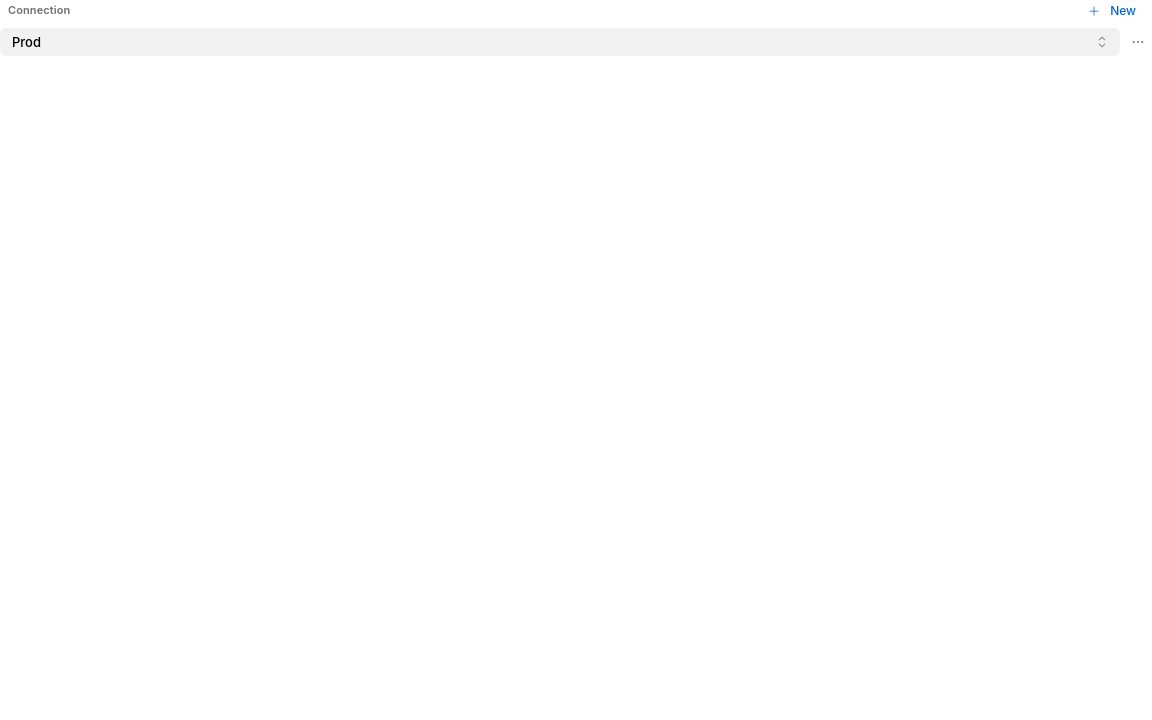
Test case: ConnectionList delete dialog › warns about all saved queries when the count fails
Click the button named "Connection actions": (1138, 42) [1124, 28, 1151, 56]
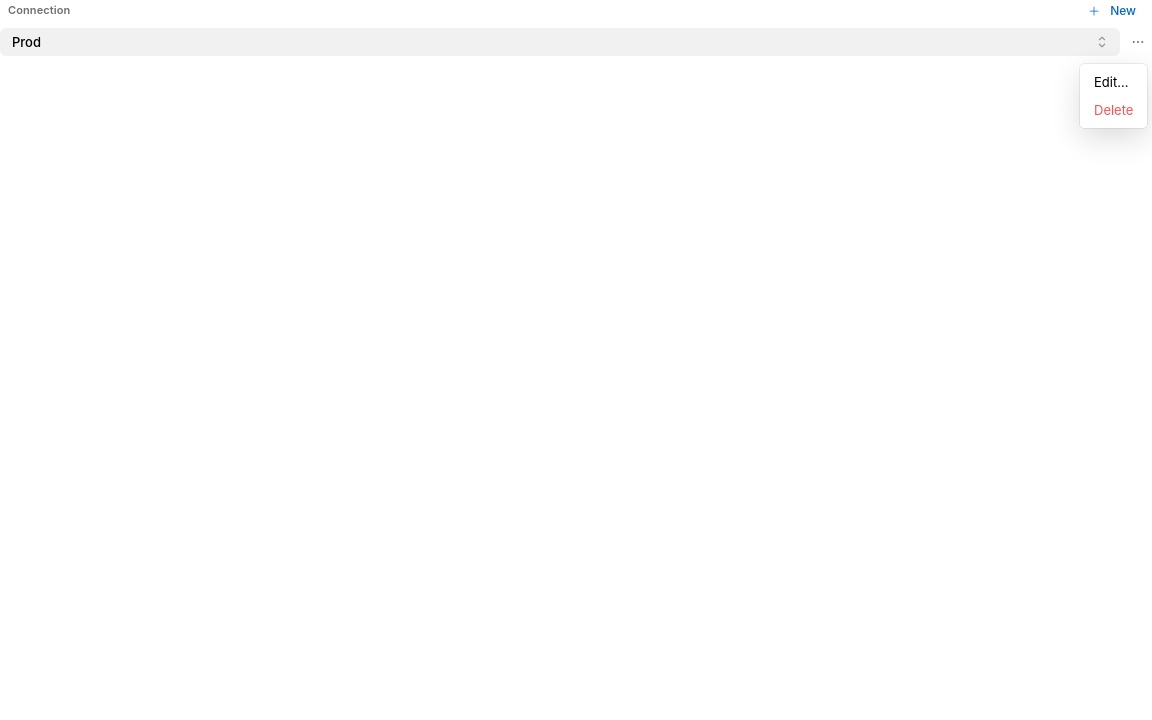
Click the menu item "Delete": (1113, 110) [1084, 96, 1143, 124]
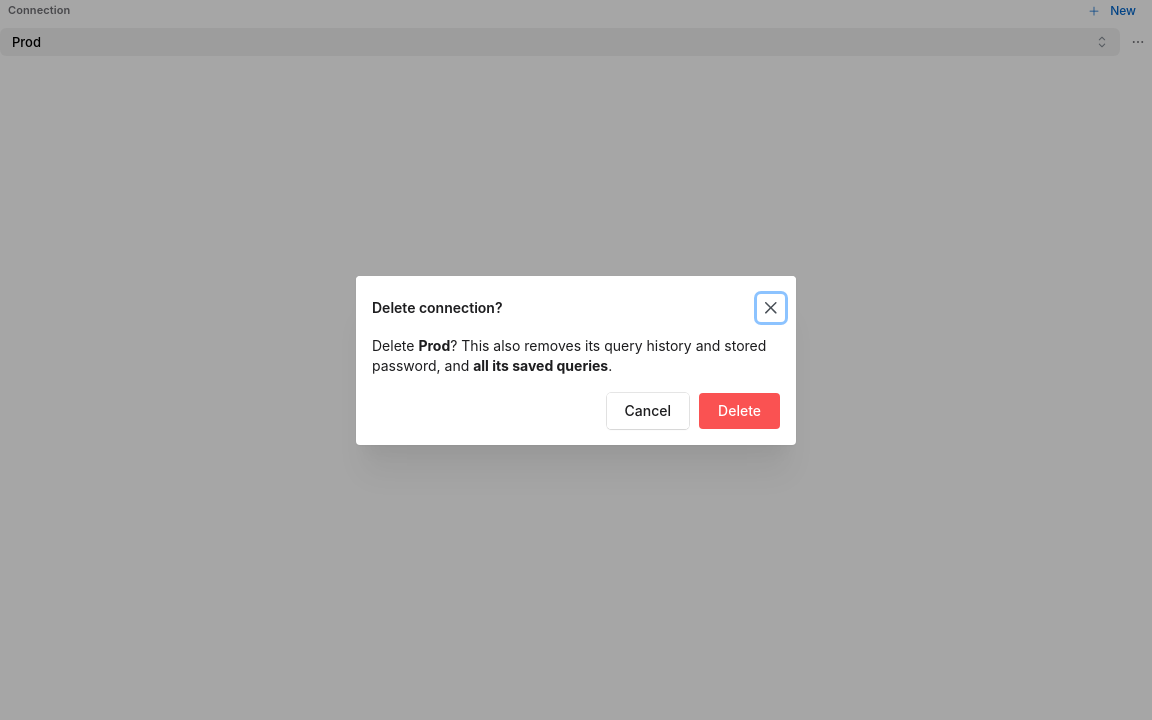
Expected: the button "Delete" is enabled, [699, 392, 780, 428]
Expected: the text "all its saved queries" is shown, [473, 357, 608, 374]
